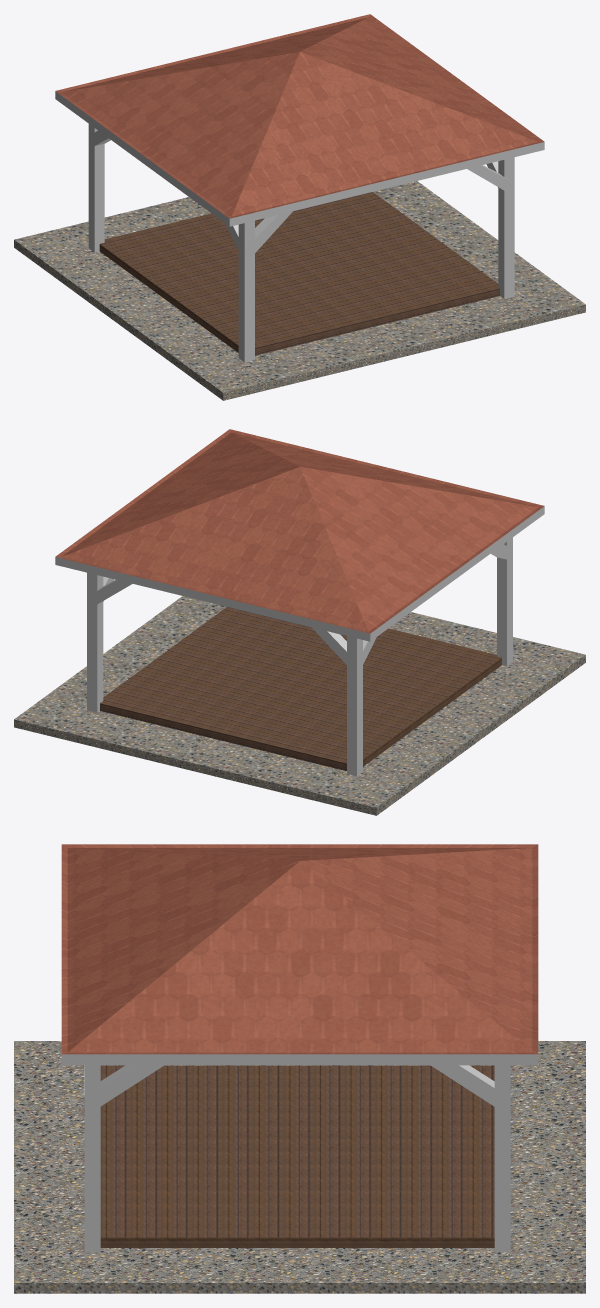
The model's file is house.obj.
3 views of the same model, one above another, from view 1: azimuth 30°, elevation 25°; view 2: azimuth 150°, elevation 25°; view 3: azimuth 270°, elevation 25° (orthographic). The views are drawn at different scales.
Visible parts, largest first — view 1: Roof_Roof, Floor_Wood, Floor_Gravel, Pillars_Wood_Smooth_Faded_Birch, Roof_Wood_Smooth_Faded_Birch; view 2: Roof_Roof, Floor_Wood, Floor_Gravel, Pillars_Wood_Smooth_Faded_Birch, Roof_Wood_Smooth_Faded_Birch; view 3: Roof_Roof, Floor_Wood, Floor_Gravel, Pillars_Wood_Smooth_Faded_Birch, Roof_Wood_Smooth_Faded_Birch.
Boxes of the visible parts, bbox=[...] form: Roof_Roof: bbox=[55, 14, 544, 218]; Floor_Wood: bbox=[99, 192, 499, 355]; Floor_Gravel: bbox=[14, 181, 585, 400]; Pillars_Wood_Smooth_Faded_Birch: bbox=[88, 124, 514, 362]; Roof_Wood_Smooth_Faded_Birch: bbox=[55, 91, 544, 226]; Roof_Roof: bbox=[55, 429, 544, 633]; Floor_Wood: bbox=[100, 607, 501, 771]; Floor_Gravel: bbox=[14, 596, 585, 815]; Pillars_Wood_Smooth_Faded_Birch: bbox=[87, 537, 512, 776]; Roof_Wood_Smooth_Faded_Birch: bbox=[55, 506, 544, 641]; Roof_Roof: bbox=[61, 844, 538, 1054]; Floor_Wood: bbox=[100, 1065, 494, 1247]; Floor_Gravel: bbox=[14, 1041, 585, 1293]; Pillars_Wood_Smooth_Faded_Birch: bbox=[84, 1065, 510, 1252]; Roof_Wood_Smooth_Faded_Birch: bbox=[61, 1054, 538, 1065].
Bounding box in the file's own units: 10.65 × 6.41 × 10.65.
